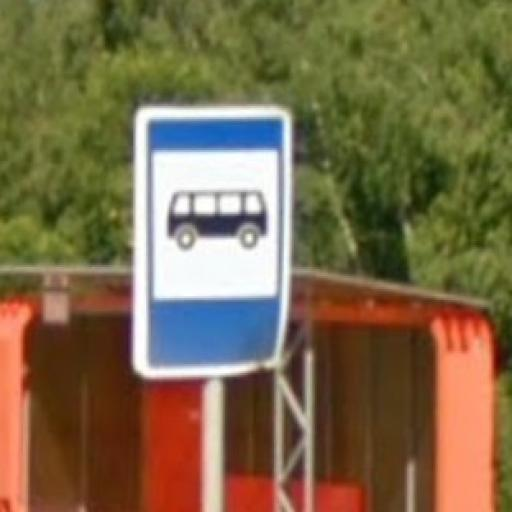traffic_sign: (132, 107, 293, 381)
